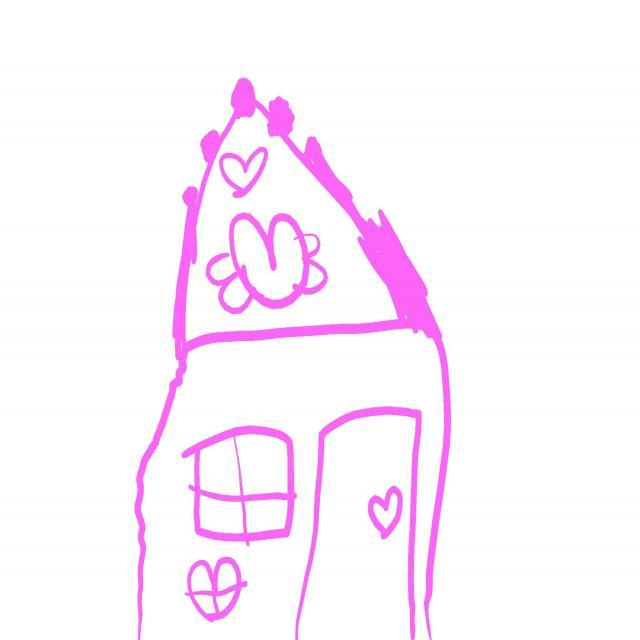door: (296, 408, 422, 640)
house: (135, 79, 451, 640)
roof: (179, 91, 433, 351)
wall: (137, 324, 452, 640)
window: (182, 429, 296, 544), (206, 214, 327, 314), (185, 558, 248, 622)
